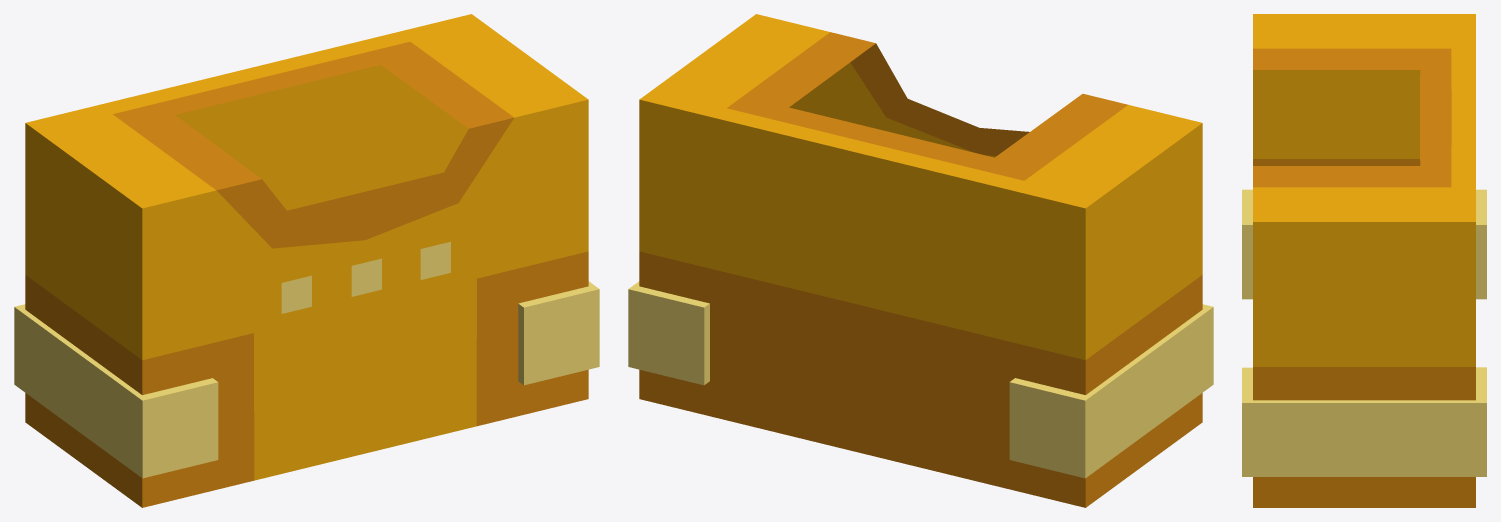
File: Armor 02.FBX
3 renders of one model, left to right at view 1: azimuth 30°, elevation 25°; view 2: azimuth 150°, elevation 25°; view 3: azimuth 270°, elevation 25°, orthographic. The views are drawn at different scales.
Visible parts, largest first — view 1: Armor 02; view 2: Armor 02; view 3: Armor 02.
Boxes of the visible parts, x1=… form: Armor 02: x1=14, y1=14, x2=599, y2=507; Armor 02: x1=628, y1=14, x2=1213, y2=507; Armor 02: x1=1242, y1=14, x2=1486, y2=507.
Bounding box in the file's own units: 49.6 × 31.05 × 24.1.
Materials: 1 (1 with a texture image).
